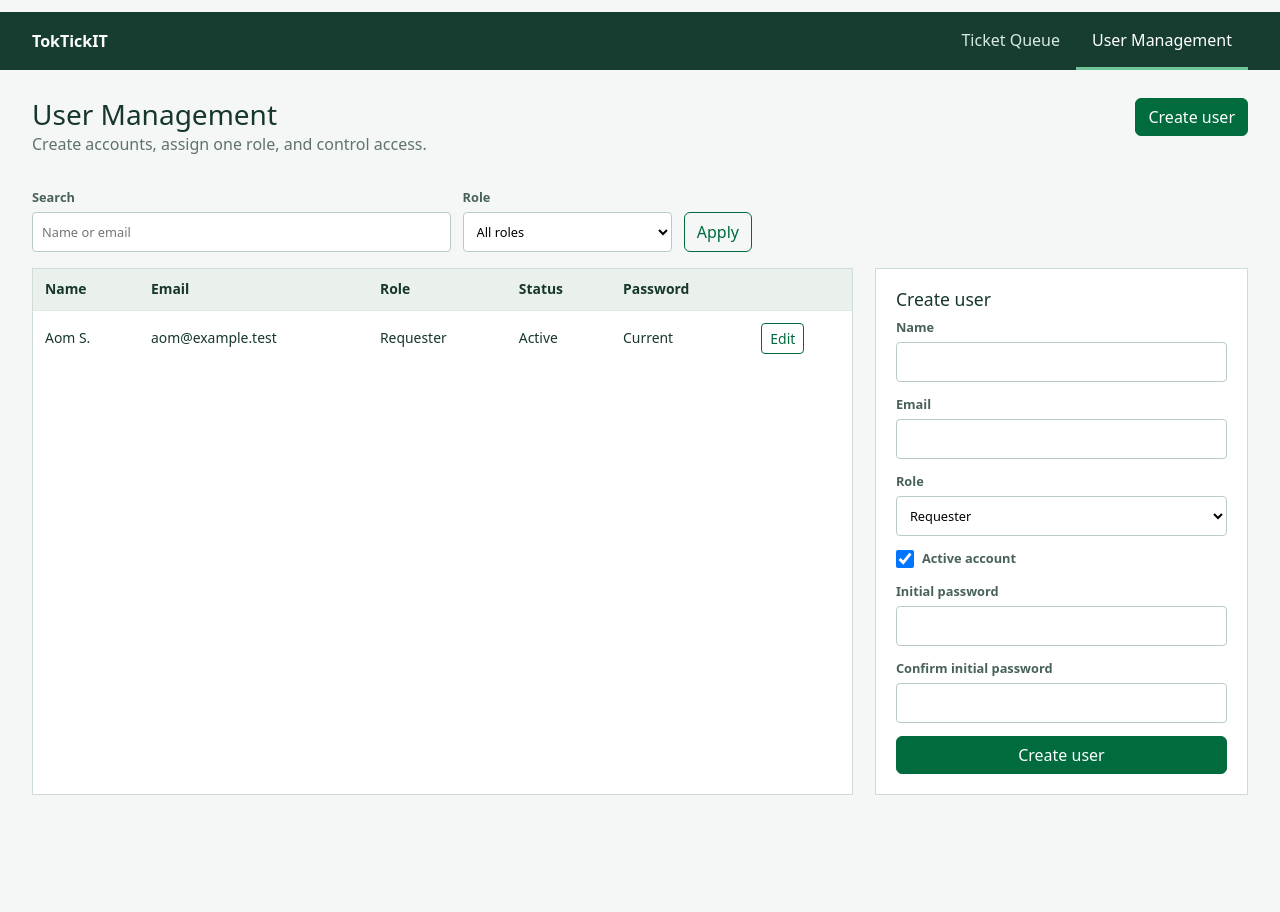
Test: Administrator user management › renders allowlisted user data and creates a user
Type "New Staff" into the field named "User name" at (1061, 362), box [896,342,1227,382]
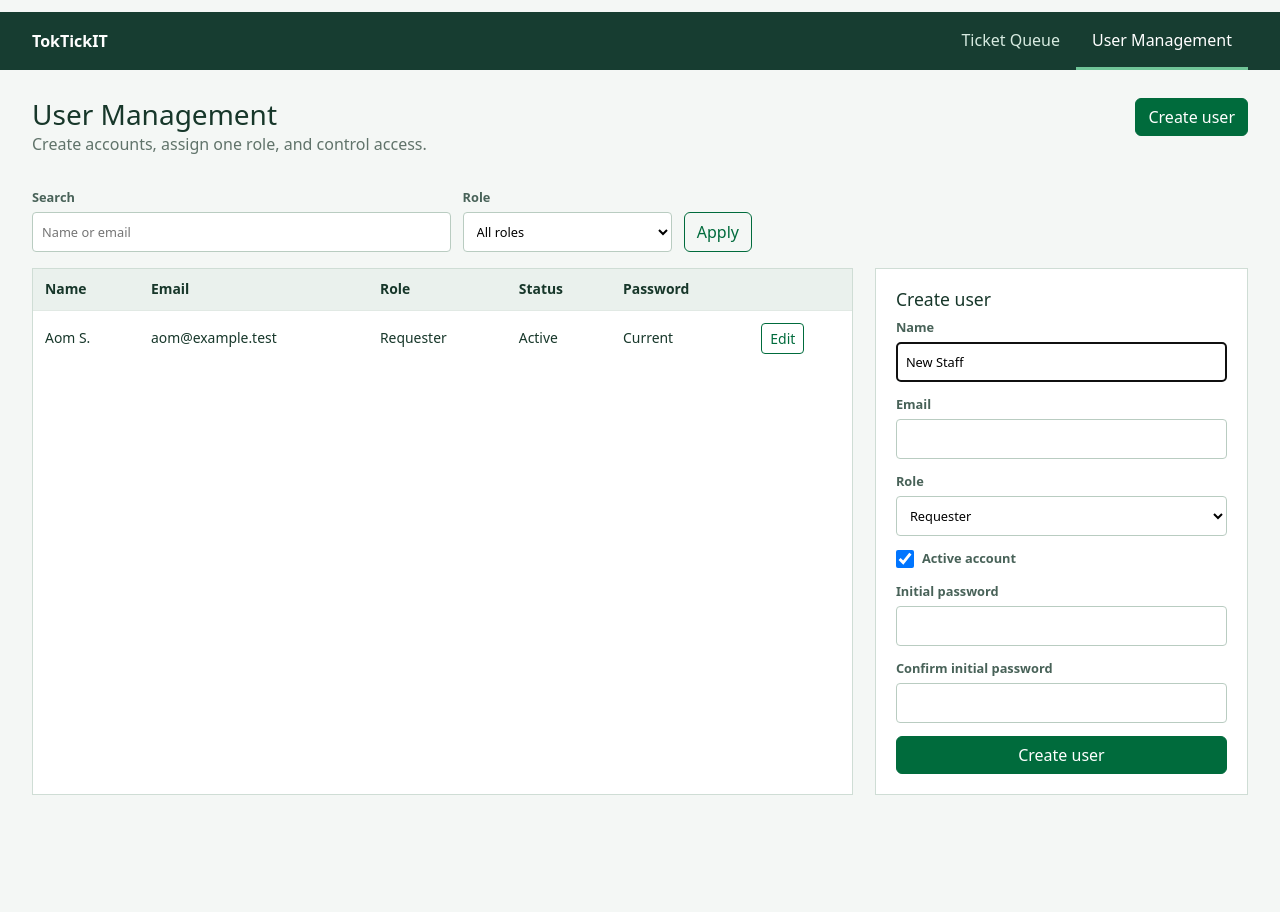
Type "new.staff@example.test" into the field named "User email" at (1061, 439), box [896,419,1227,459]
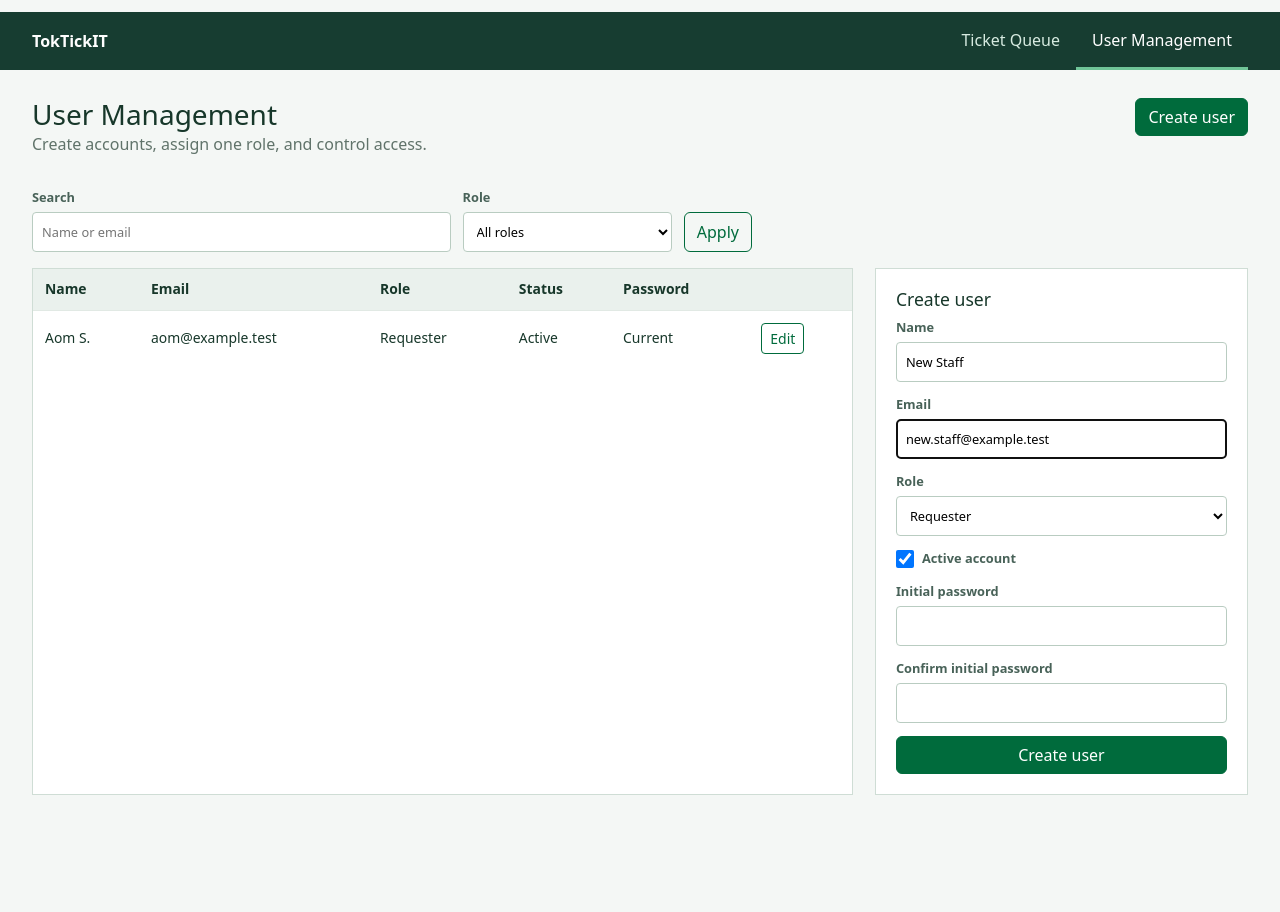
Select "IT Staff" in the dropdown named "User role" at (1061, 516), box [896,496,1227,536]
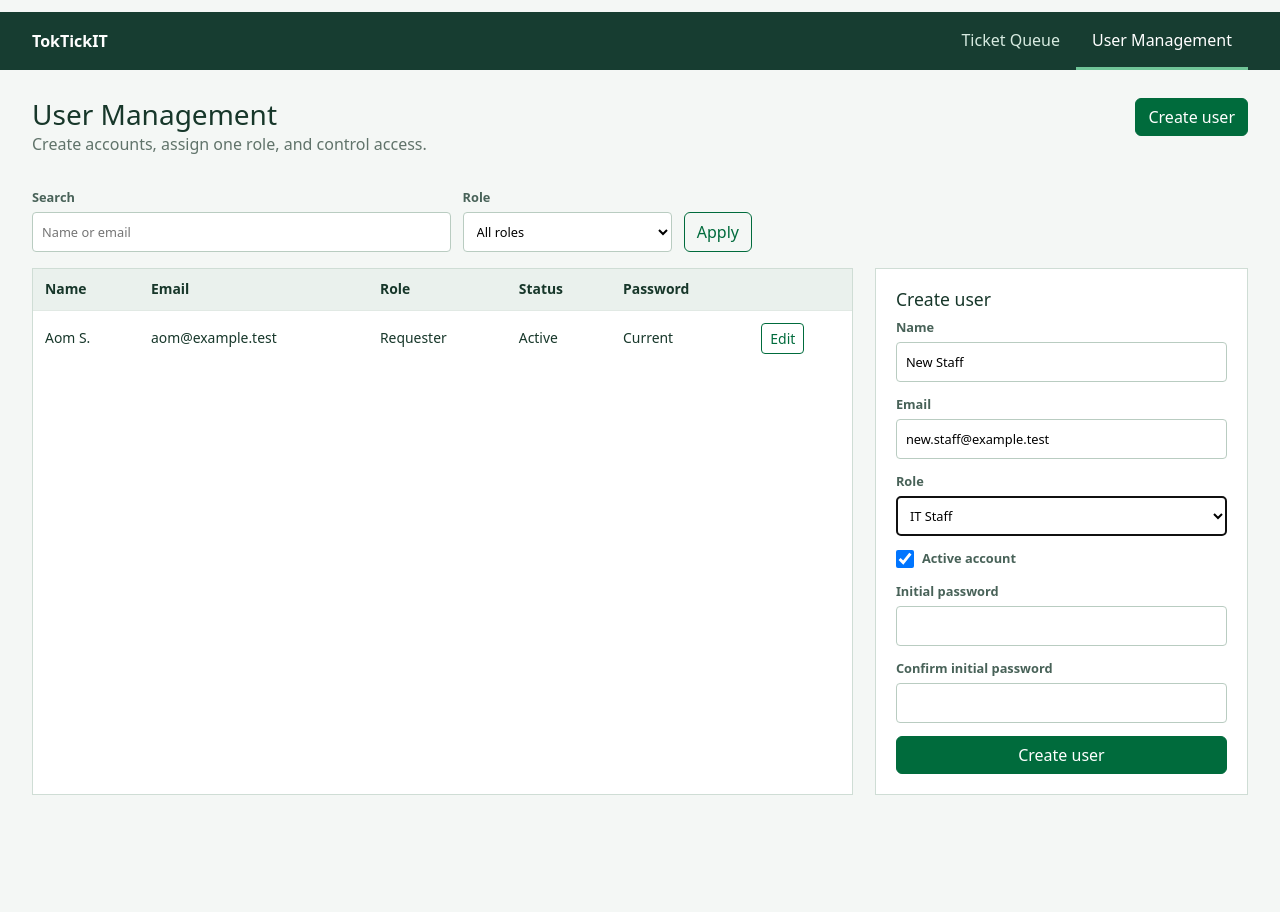
Type "InitialPass123!" into the password field labelled "Initial password" at (1061, 626), box [896,606,1227,646]
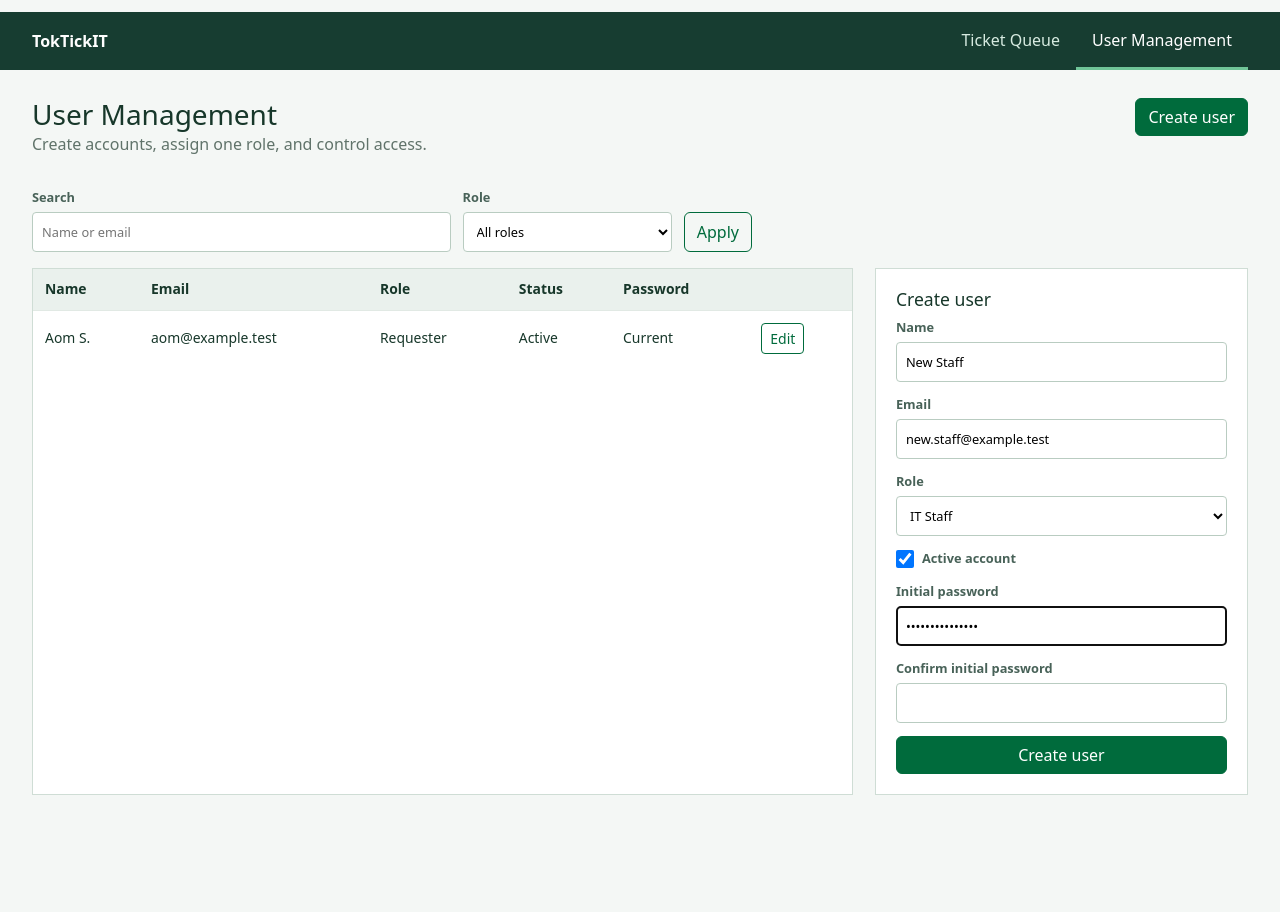
Type "InitialPass123!" into the password field labelled "Confirm initial password" at (1061, 703), box [896,683,1227,723]
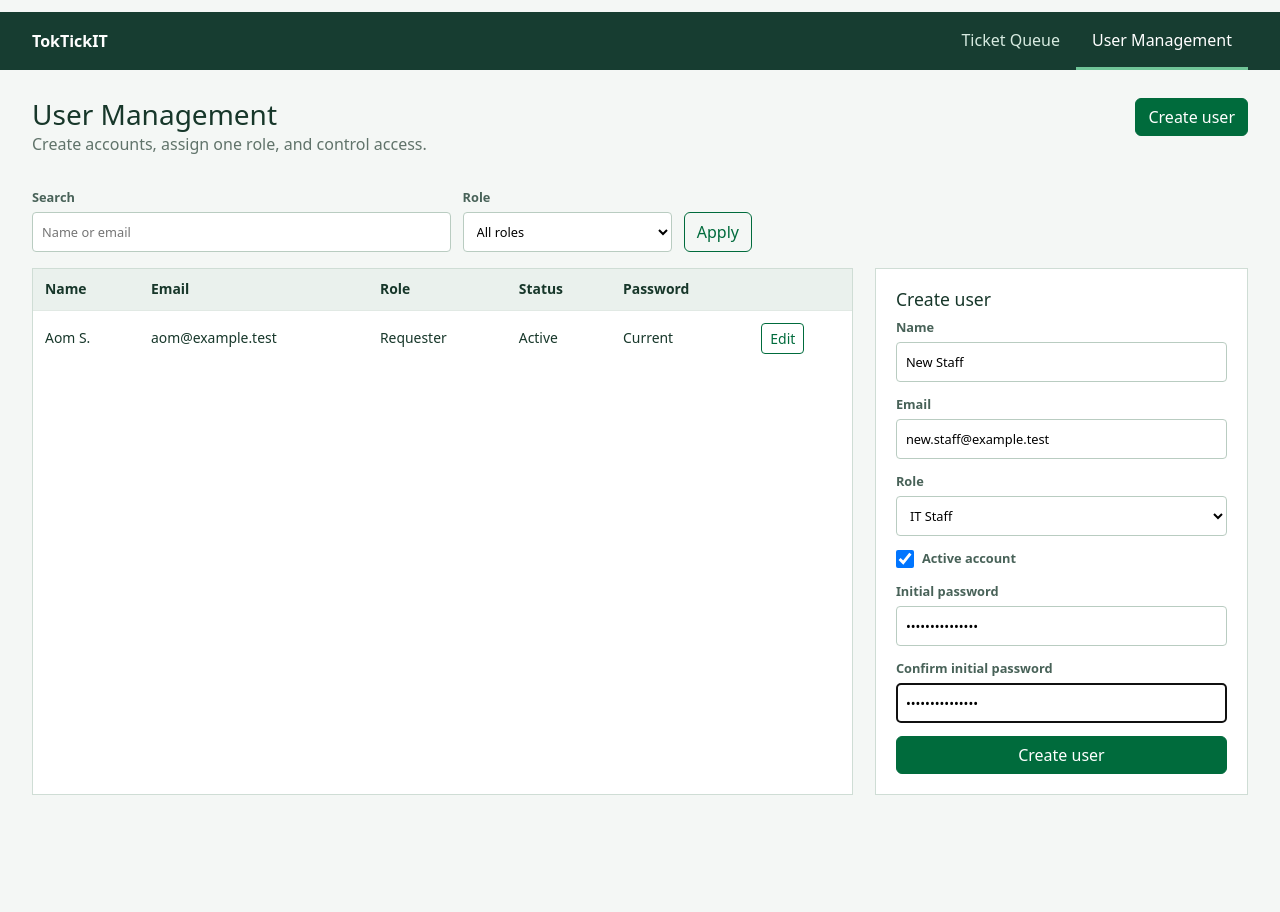
Click the button with aria-label "Submit create user" at (1061, 755), box [896,736,1227,774]
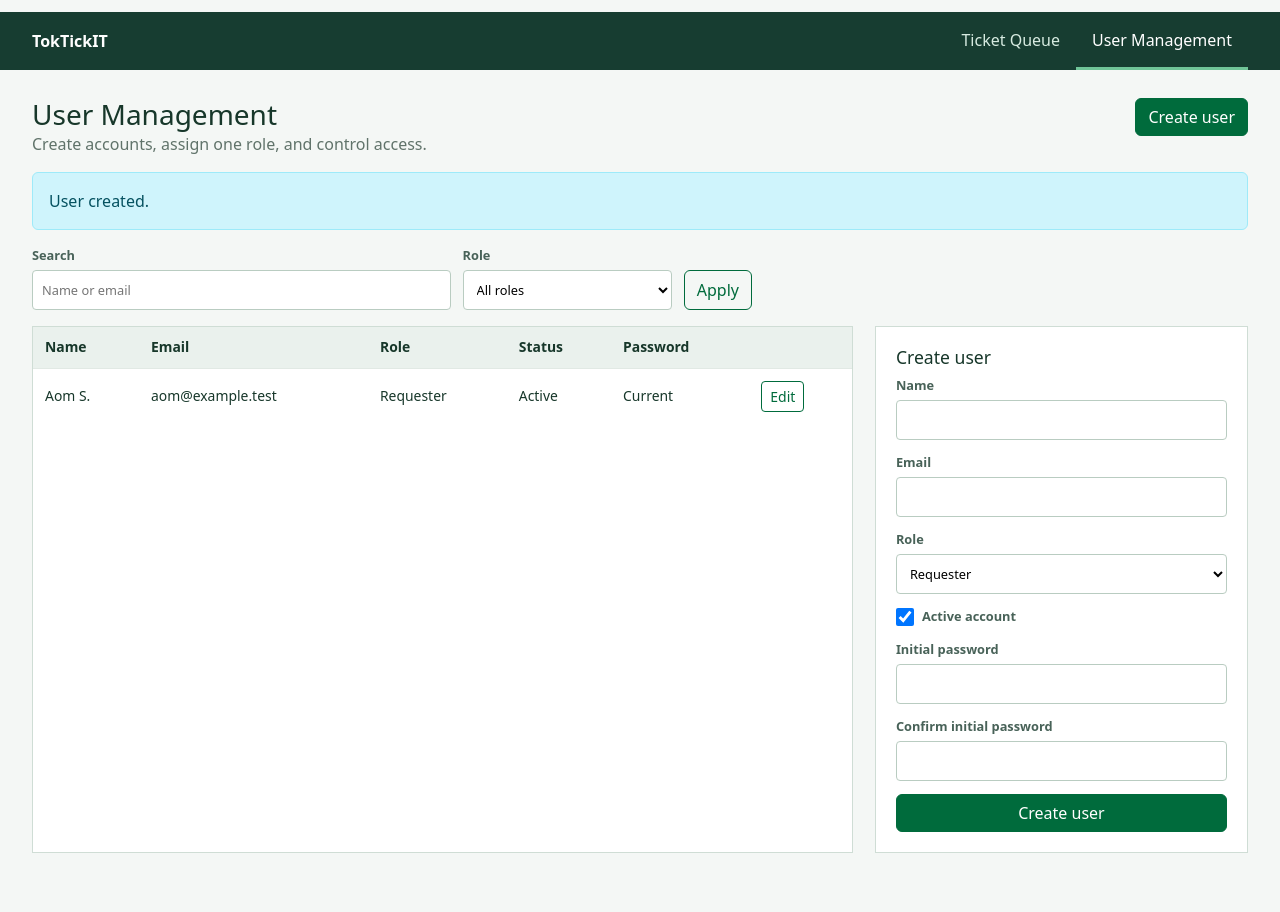
Expected: the message reads "User created.", [49,190,149,212]
